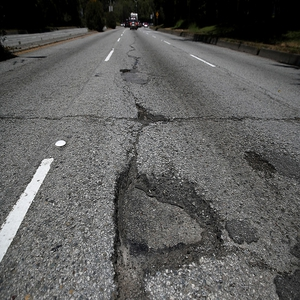pothole: (112, 170, 228, 273)
